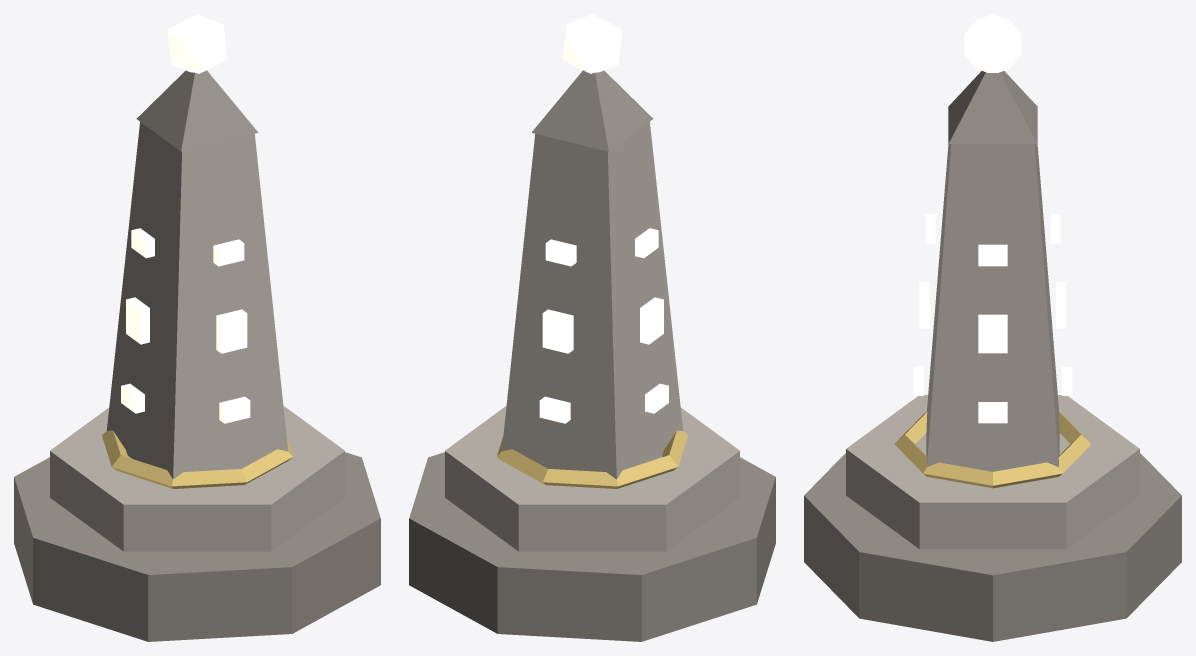
The model's file is waystone_town.glb.
The picture shows the model from 3 angles, left to right: view 1: azimuth 30°, elevation 25°; view 2: azimuth 150°, elevation 25°; view 3: azimuth 270°, elevation 25°; orthographic projection.
Visible parts, largest first — view 1: waystone_town; view 2: waystone_town; view 3: waystone_town.
Boxes of the visible parts, <box> form: waystone_town: <box>14,14,380,641</box>; waystone_town: <box>409,14,775,641</box>; waystone_town: <box>804,14,1181,641</box>.
Size of the model in its own units: 1.8 by 2.88 by 1.8.
